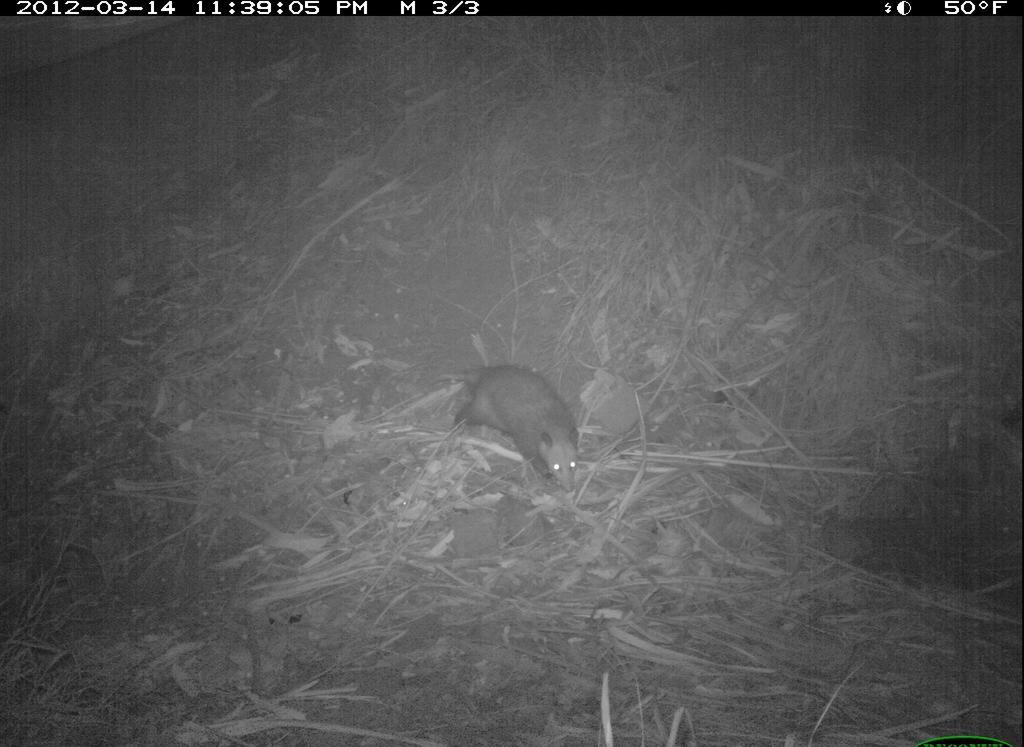opossum: (436, 350, 615, 524)
